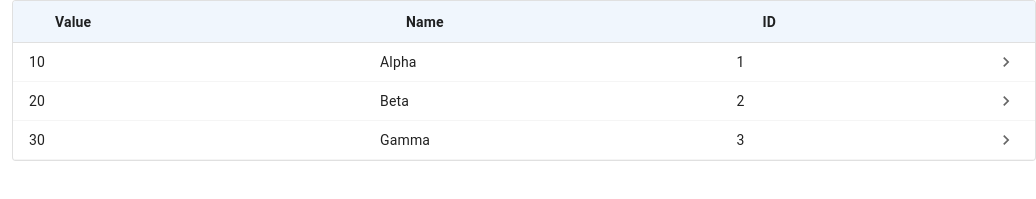
Test case: IpsDataTable › expands row on chevron click
Click the button named "expand row" in the row of "Alpha": (1006, 62) [991,47,1021,77]
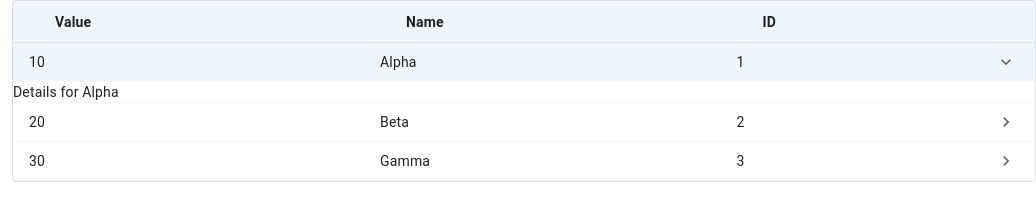
Expected: the text "Details for Alpha" is shown, [13,84,119,100]
